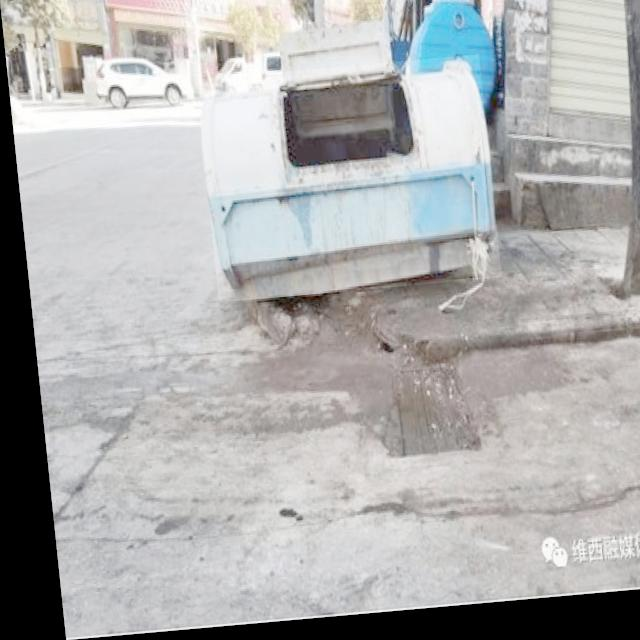garbage_bin: (194, 63, 495, 306)
